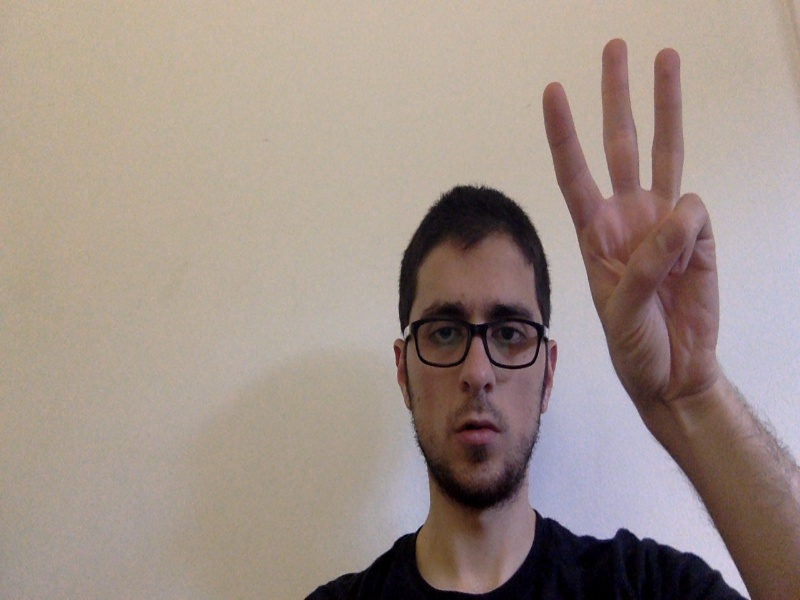3-hand: (543, 38, 720, 397)
